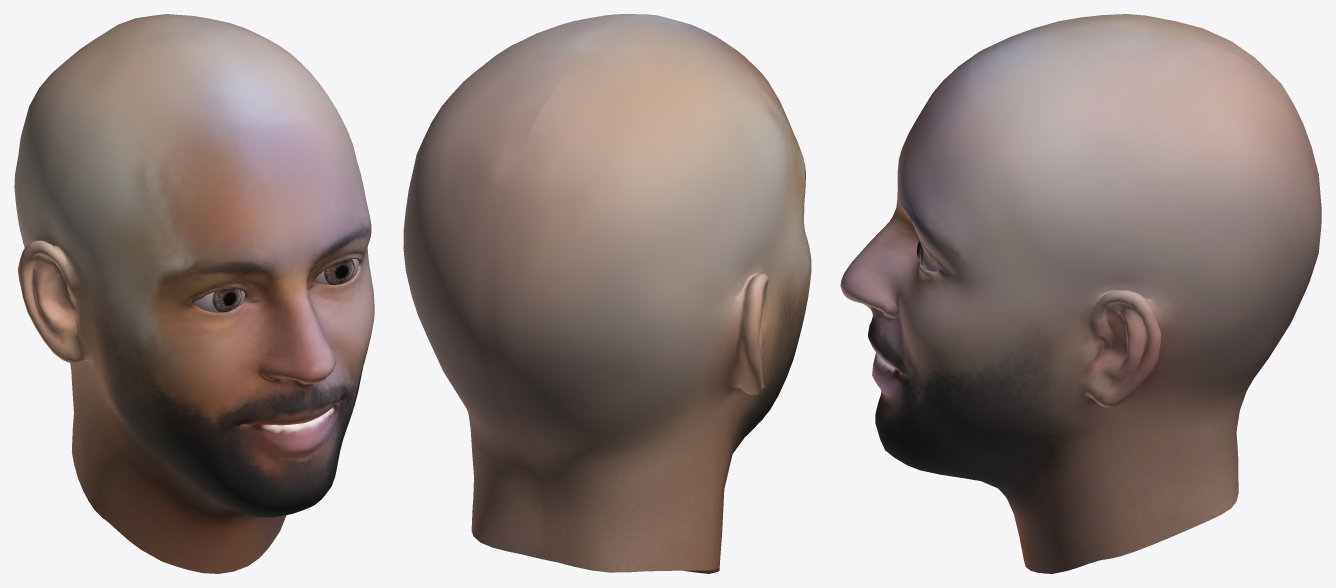
The model's file is HeadObject.fbx.
The picture shows the model from 3 angles, left to right: view 1: azimuth 30°, elevation 25°; view 2: azimuth 150°, elevation 25°; view 3: azimuth 270°, elevation 25°; orthographic projection. The views are drawn at different scales.
Visible parts, largest first — view 1: Head; view 2: Head; view 3: Head.
Part boxes in pixels (left/top/right/bottom): Head: left=14, top=14, right=374, bottom=573; Head: left=403, top=14, right=811, bottom=573; Head: left=840, top=14, right=1321, bottom=573.
Bounding box in the file's own units: 0.1621 × 0.2503 × 0.205.
Materials: 1 (1 with a texture image).
